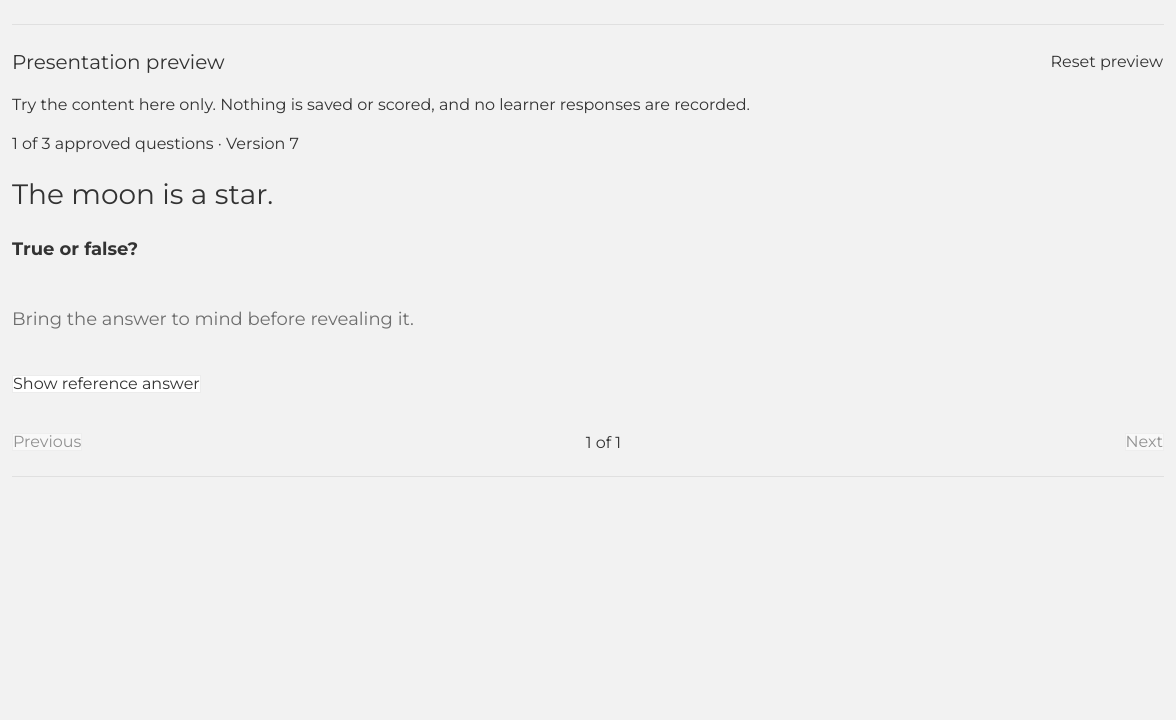
Test: previews only the approved selection, reveals the contextual answer locally and resets without a delivery request
Expected: the text "The moon is a star." is shown, x1=12 y1=177 x2=273 y2=211
Expected: the text "1 of 3 approved questions · Version 7" is shown, x1=12 y1=134 x2=299 y2=153
Click the button "Show reference answer": click(106, 384) x1=12 y1=375 x2=201 y2=393
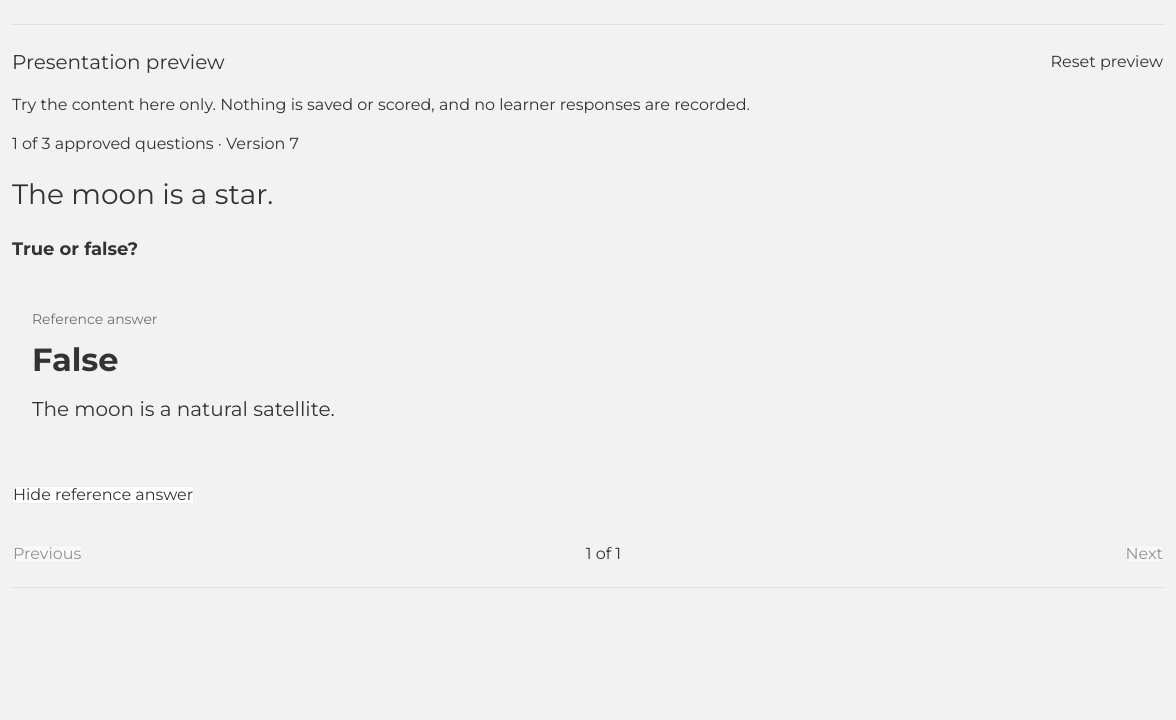
Expected: the text "The moon is a natural satellite." is shown, x1=32 y1=397 x2=335 y2=421
Click the button "Reset preview": click(1107, 62) x1=1050 y1=53 x2=1164 y2=71
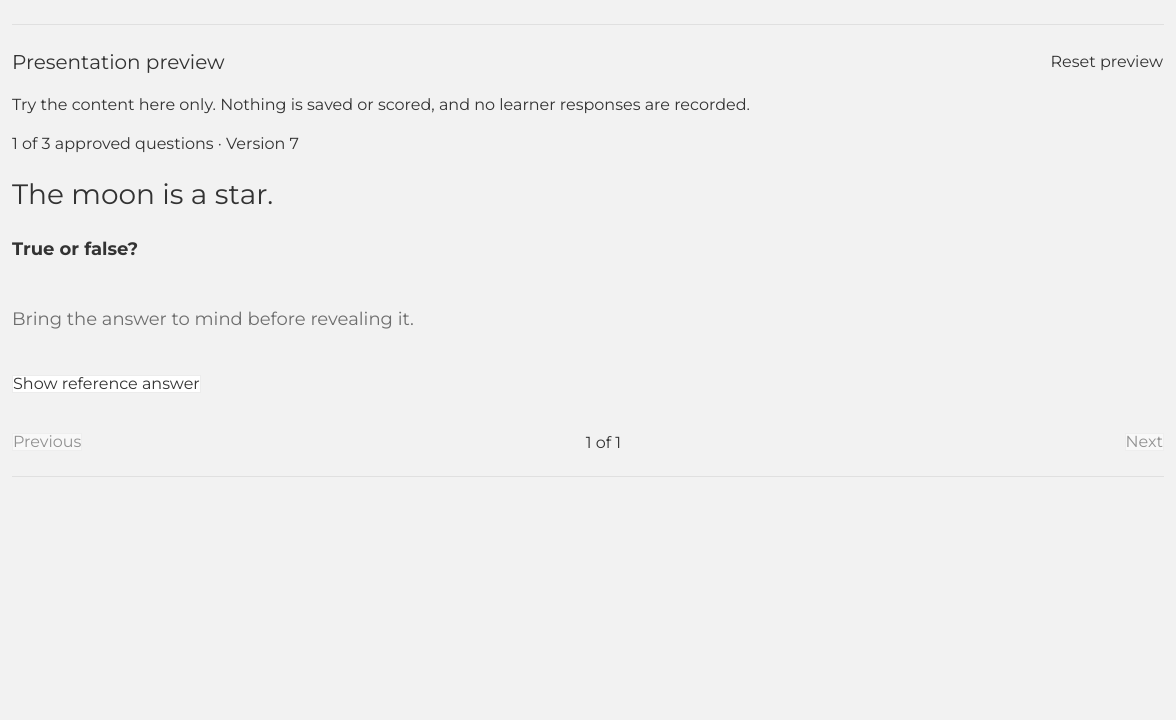
Expected: the text "The moon is a natural satellite." is gone
